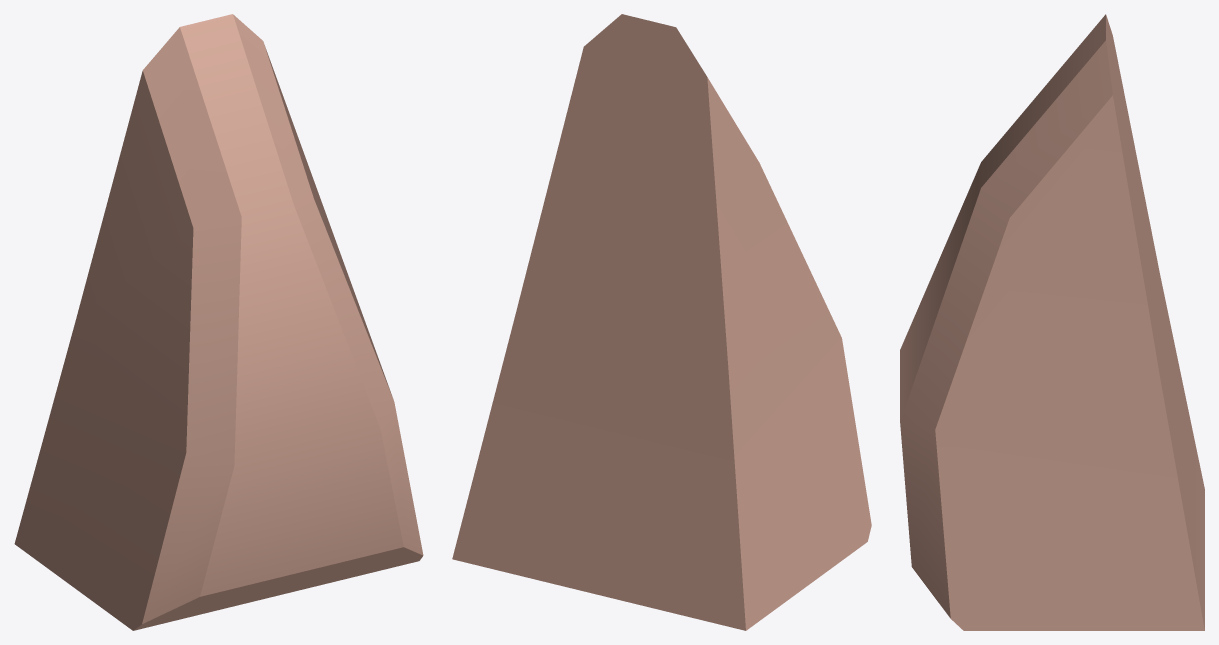
The model's file is Nariz_Perico.fbx.
The picture shows the model from 3 angles, left to right: view 1: azimuth 30°, elevation 25°; view 2: azimuth 150°, elevation 25°; view 3: azimuth 270°, elevation 25°; orthographic projection. The views are drawn at different scales.
Parts seen in each view (by area): view 1: Nariz_Tucan; view 2: Nariz_Tucan; view 3: Nariz_Tucan.
Boxes of the visible parts, bbox=[...] form: Nariz_Tucan: bbox=[14, 14, 423, 630]; Nariz_Tucan: bbox=[452, 14, 871, 630]; Nariz_Tucan: bbox=[900, 14, 1204, 630].
Size of the model in its own units: 0.4395 by 0.7689 by 0.3986.
